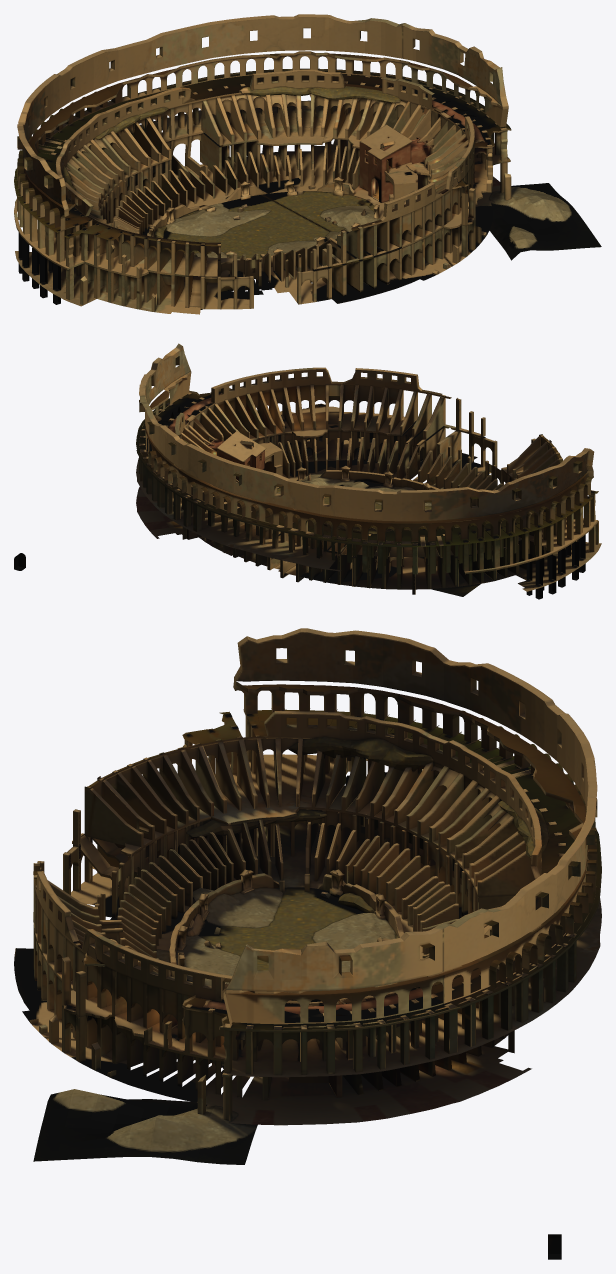
File: colera2finalv2.glb
3 renders of one model, top to bottom at view 1: azimuth 30°, elevation 25°; view 2: azimuth 150°, elevation 25°; view 3: azimuth 270°, elevation 25°, orthographic. The views are drawn at different scales.
Visible parts, largest first — view 1: Cube.018; view 2: Cube.018; view 3: Cube.018.
Boxes of the visible parts, bbox=[...] form: Cube.018: bbox=[14, 14, 601, 314]; Cube.018: bbox=[14, 343, 601, 599]; Cube.018: bbox=[14, 628, 601, 1259].
Size of the model in its own units: 606 by 203 by 408.
1 material, 1 textured.
